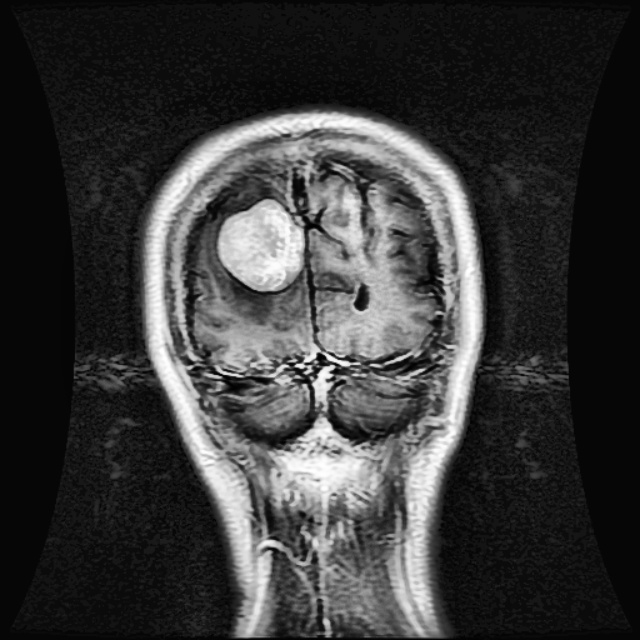Glioma: (218, 198, 304, 290)
